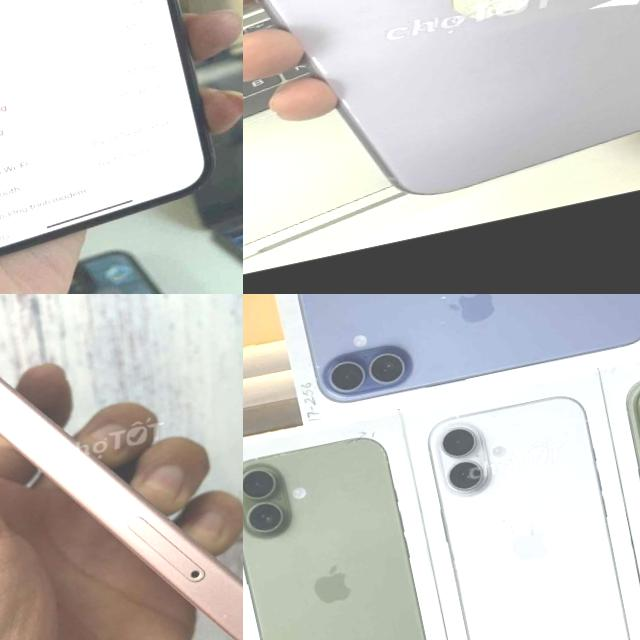gen_11: (243, 0, 640, 231)
gen_12_13: (0, 0, 232, 270)
gen_15: (0, 294, 243, 640)
gen_17: (416, 380, 640, 640), (243, 425, 447, 640), (291, 294, 640, 409)
